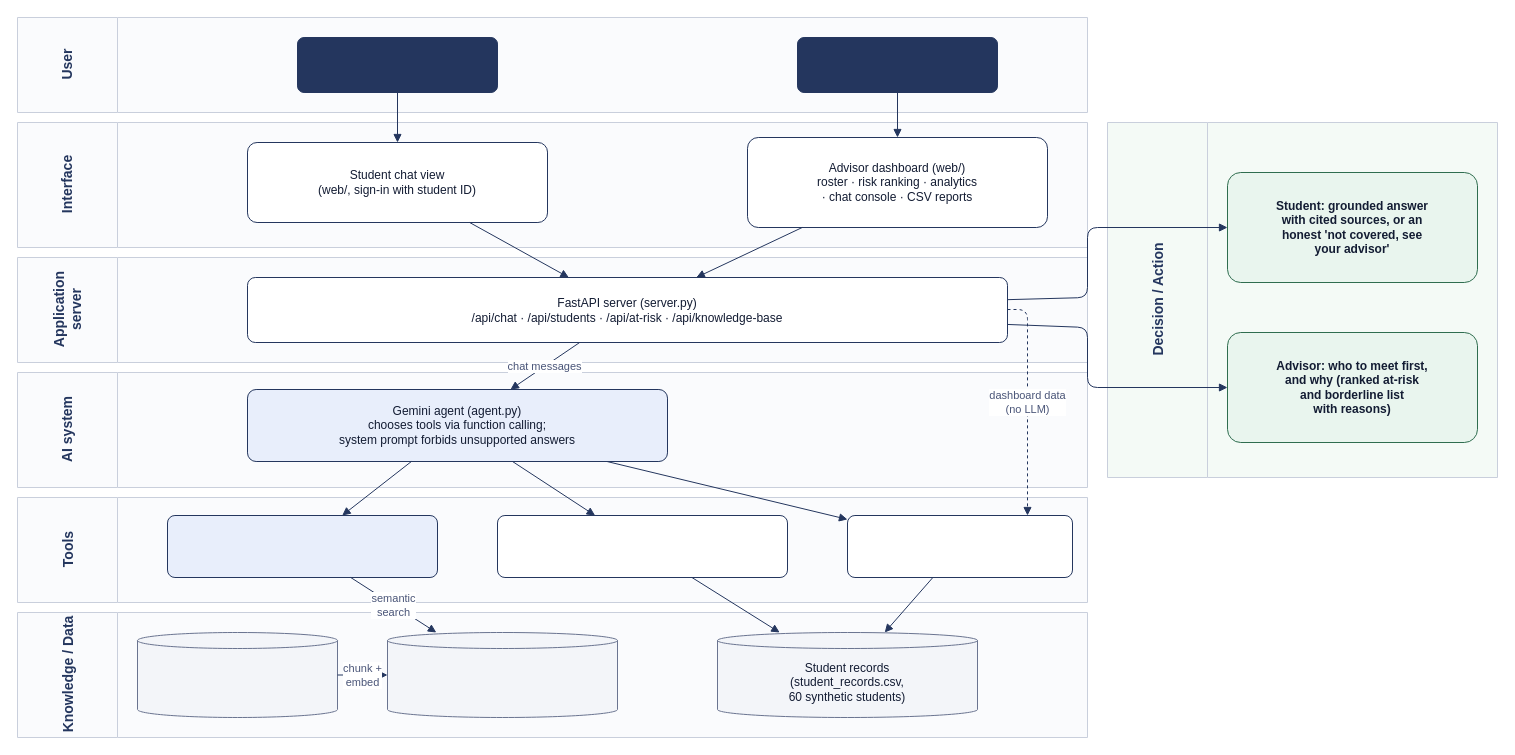
Image size: 1515x755. Some labels were removed from this diagram. Each missing label, with the centre of its shape:
"Academic advisor" belongs at pixel 897 64.
"check_student_progress (tools.py, rule-based)" belongs at pixel 642 546.
"ChromaDB vector index (MiniLM embeddings)" belongs at pixel 502 675.
"list_at_risk_students (tools.py, rule-based)" belongs at pixel 959 546.
"Programme documents (3 text files)" belongs at pixel 237 675.
"retrieve_knowledge_base (rag.py)" belongs at pixel 302 546.
"Student" belongs at pixel 397 64.
